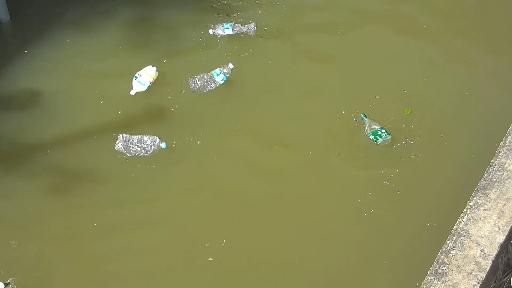leaf: (402, 104, 411, 117)
plastic: (110, 27, 195, 102), (202, 10, 280, 53), (177, 58, 247, 95), (342, 103, 402, 145), (103, 127, 174, 162), (0, 272, 23, 286)
